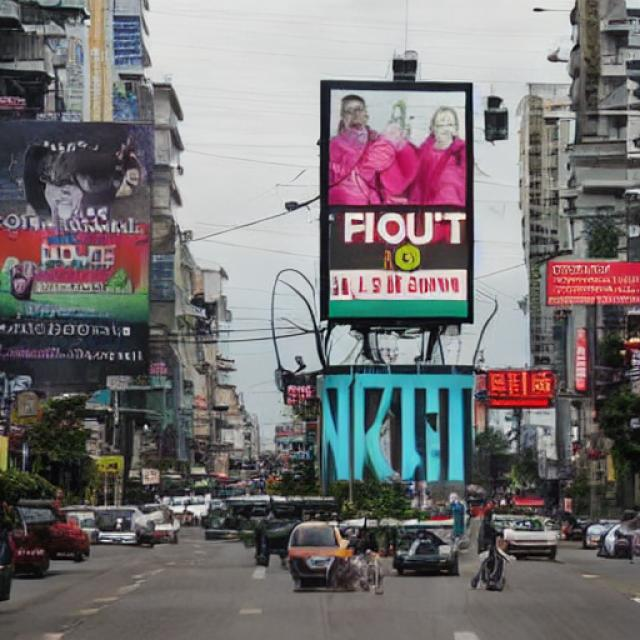Billboard: (0, 120, 154, 376), (317, 80, 474, 327)
